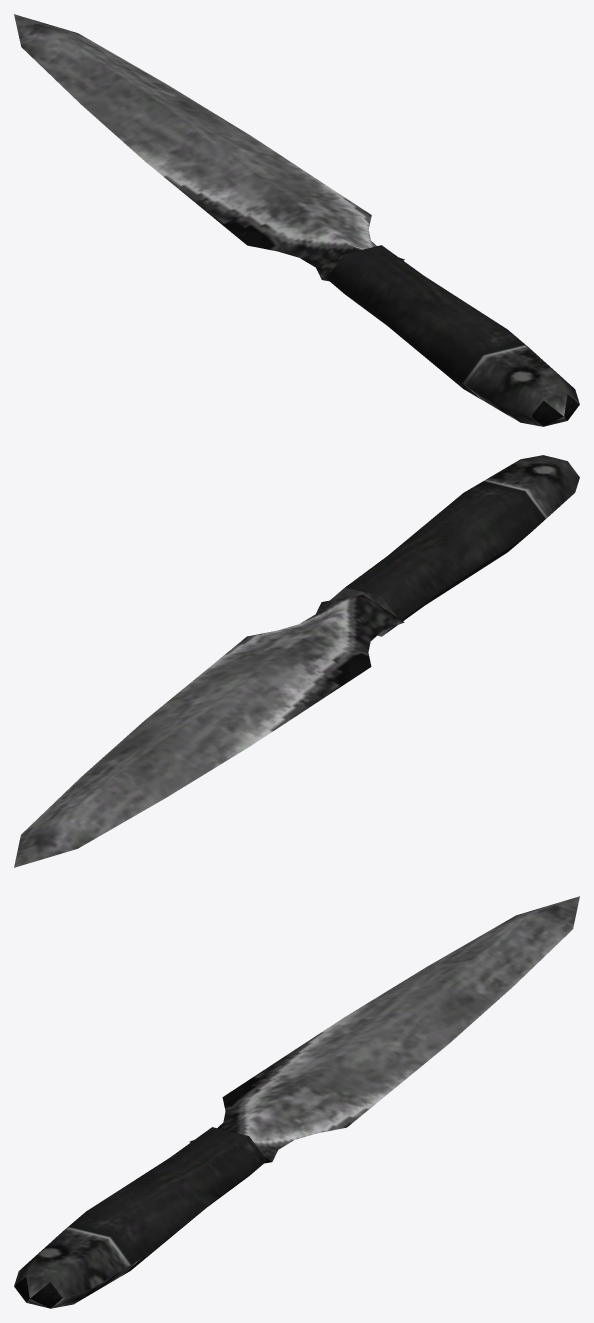
3 renders of one model, top to bottom at view 1: azimuth 30°, elevation 25°; view 2: azimuth 150°, elevation 25°; view 3: azimuth 330°, elevation 25°, orthographic.
Parts seen in each view (by area): view 1: mesh_0; view 2: mesh_0; view 3: mesh_0.
Boxes of the visible parts, left/top/right/bottom form: mesh_0: left=14, top=14, right=579, bottom=426; mesh_0: left=14, top=455, right=579, bottom=867; mesh_0: left=14, top=896, right=579, bottom=1308.
Bounding box in the file's own units: 2.19 × 0.8198 × 16.79.
1 material, 1 textured.
